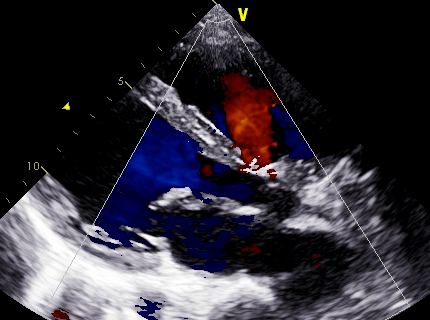MR: (134, 191, 197, 256)
